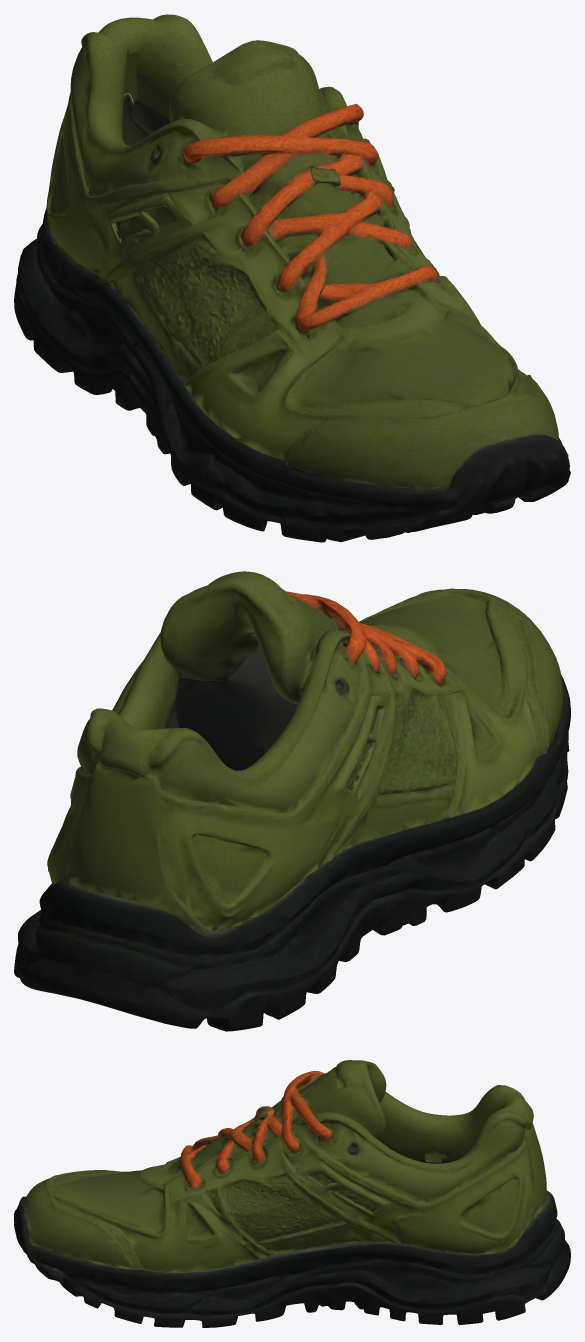
The model's file is duna-v2.glb.
The picture shows the model from 3 angles, top to bottom: view 1: azimuth 30°, elevation 25°; view 2: azimuth 150°, elevation 25°; view 3: azimuth 270°, elevation 25°; orthographic projection. The views are drawn at different scales.
Parts seen in each view (by area): view 1: geometry_0; view 2: geometry_0; view 3: geometry_0.
Part boxes in pixels (x1,y1,x2,y2): geometry_0: (14, 14, 570, 542); geometry_0: (14, 571, 570, 1031); geometry_0: (14, 1060, 570, 1327).
Bounding box in the file's own units: 0.385 × 0.4596 × 1.
1 material, 1 textured.
